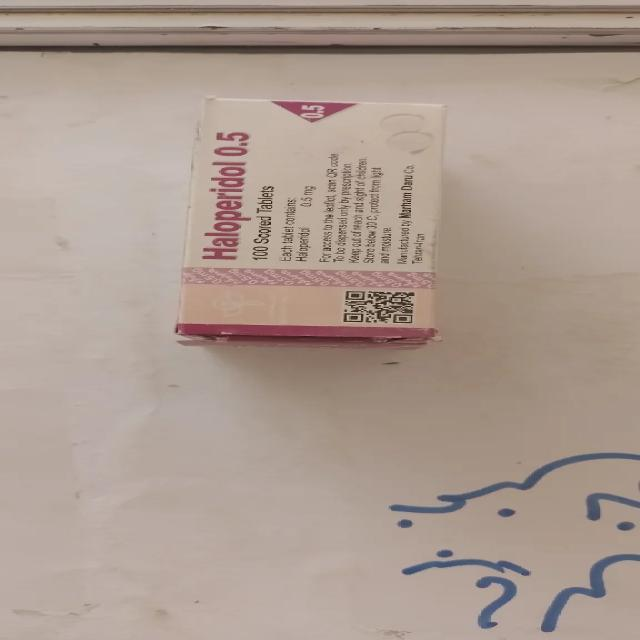drug-name: (198, 127, 260, 262)
